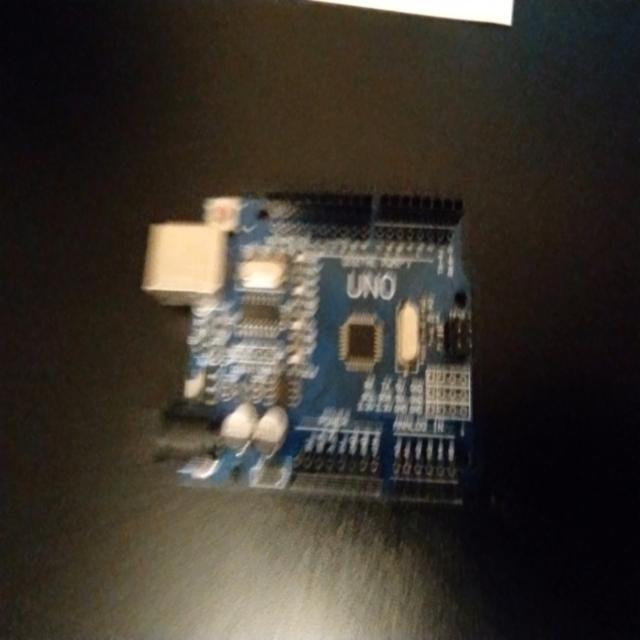arduino: (185, 194, 480, 516)
